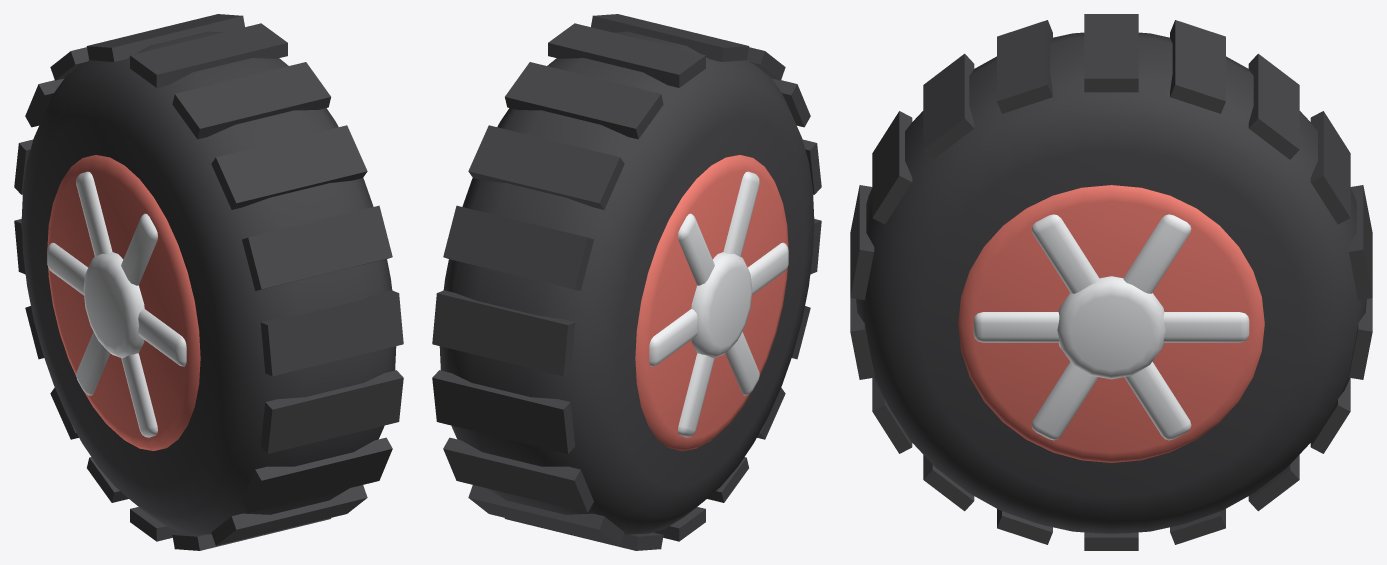
The model's file is Kola_Standard.fbx.
The picture shows the model from 3 angles, left to right: view 1: azimuth 30°, elevation 25°; view 2: azimuth 150°, elevation 25°; view 3: azimuth 270°, elevation 25°; orthographic projection.
Visible parts, largest first — view 1: Kola_Standard; view 2: Kola_Standard; view 3: Kola_Standard.
Boxes of the visible parts, bbox=[...] form: Kola_Standard: bbox=[14, 14, 403, 550]; Kola_Standard: bbox=[432, 14, 821, 550]; Kola_Standard: bbox=[850, 14, 1372, 550].
Bounding box in the file's own units: 0.49 × 1.06 × 1.06.
